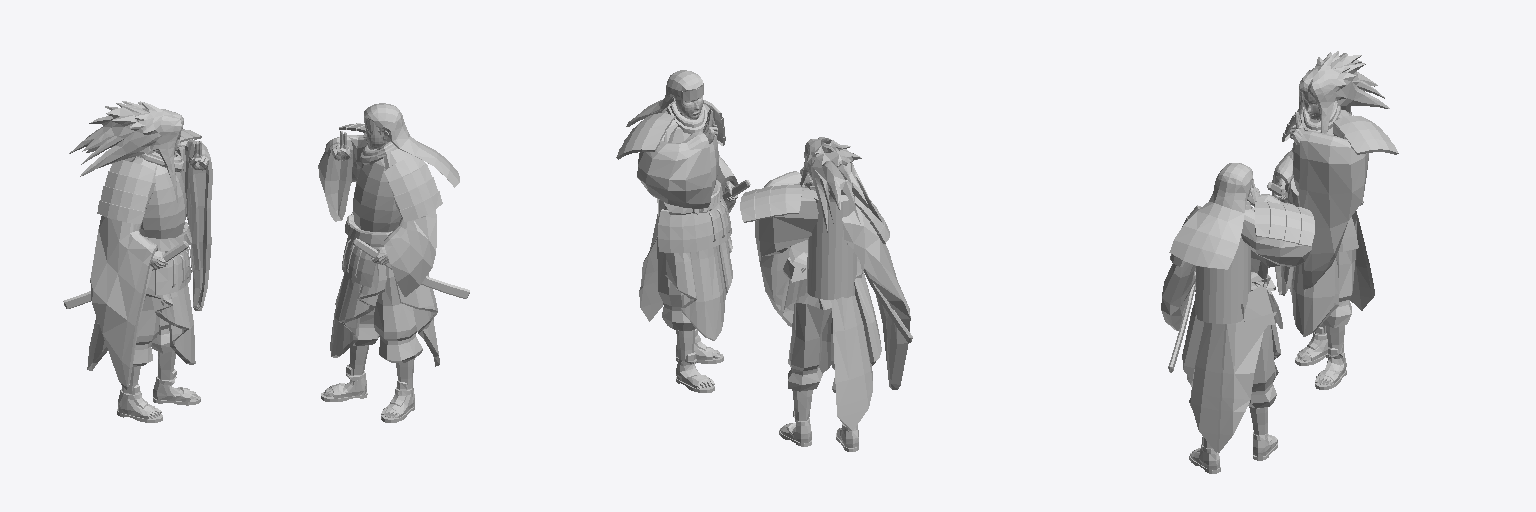
The model's file is estatuas.obj.
3 views of the same model, side by side, from view 1: azimuth 30°, elevation 25°; view 2: azimuth 150°, elevation 25°; view 3: azimuth 270°, elevation 25° (orthographic).
Parts seen in each view (by area): view 1: Personajes:polySurface537; view 2: Personajes:polySurface537; view 3: Personajes:polySurface537.
Boxes of the visible parts, x1,y1,x2,y2 form: Personajes:polySurface537: [63, 101, 469, 422]; Personajes:polySurface537: [616, 70, 912, 451]; Personajes:polySurface537: [1161, 51, 1398, 473].
Bounding box in the file's own units: 14.41 × 12.85 × 8.79.